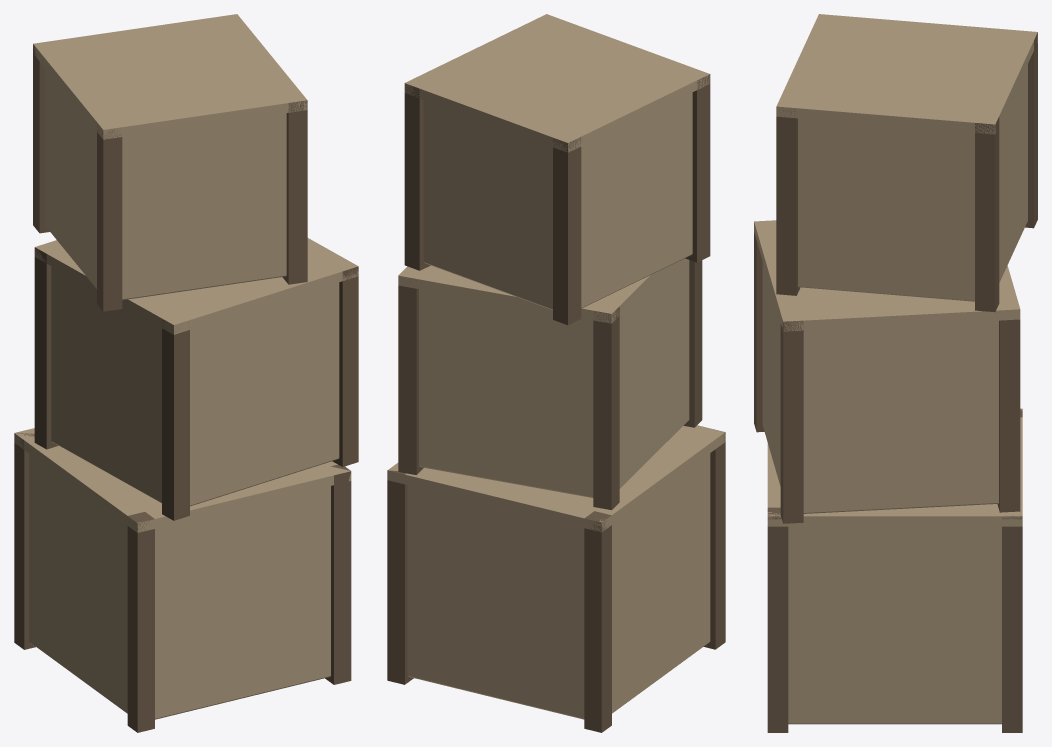
The model's file is Dress_CrateStack_Tall.fbx.
3 renders of one model, left to right at view 1: azimuth 30°, elevation 25°; view 2: azimuth 150°, elevation 25°; view 3: azimuth 270°, elevation 25°, orthographic. The views are drawn at different scales.
Parts seen in each view (by area): view 1: Dress_CrateStack_Tall; view 2: Dress_CrateStack_Tall; view 3: Dress_CrateStack_Tall.
Boxes of the visible parts, x1,y1,x2,y2 form: Dress_CrateStack_Tall: [14, 14, 358, 732]; Dress_CrateStack_Tall: [387, 14, 725, 732]; Dress_CrateStack_Tall: [754, 14, 1037, 732].
Size of the model in its own units: 71.26 by 168 by 71.26.
